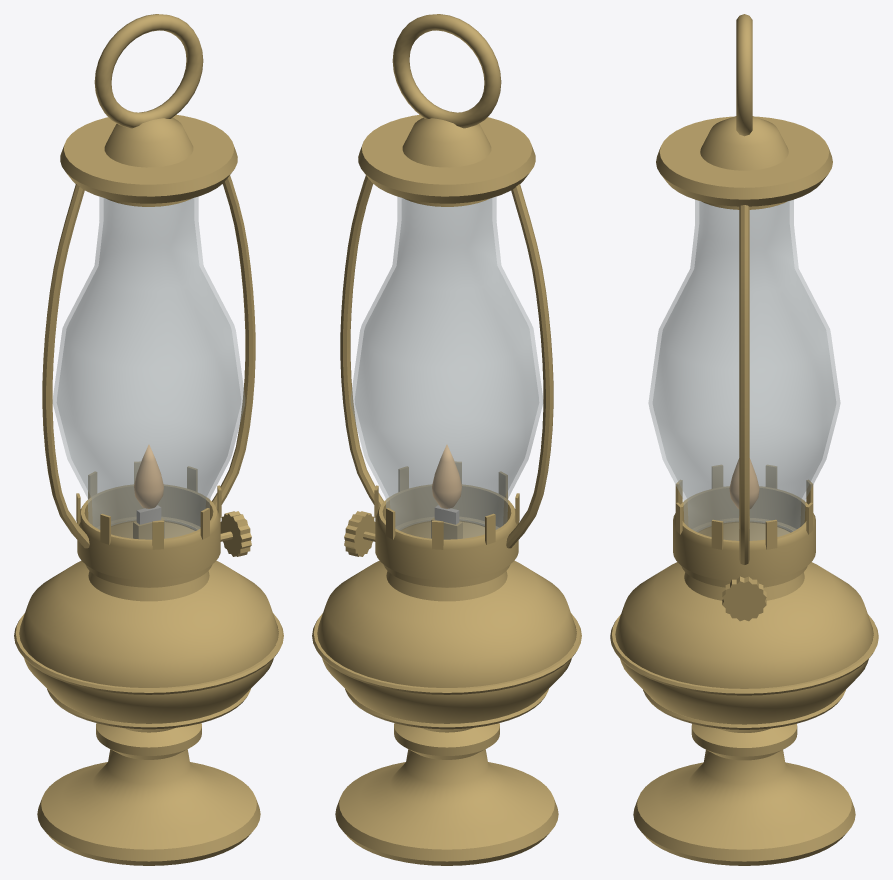
The model's file is GardenLamp.fbx.
3 views of the same model, side by side, from view 1: azimuth 30°, elevation 25°; view 2: azimuth 150°, elevation 25°; view 3: azimuth 270°, elevation 25° (orthographic).
Visible parts, largest first — view 1: Lamp, Flame; view 2: Lamp, Flame; view 3: Lamp, Flame.
Boxes of the visible parts, x1=… form: Lamp: x1=14, y1=14, x2=283, y2=865; Flame: x1=134, y1=445, x2=163, y2=508; Lamp: x1=312, y1=14, x2=581, y2=865; Flame: x1=432, y1=445, x2=461, y2=508; Lamp: x1=610, y1=14, x2=878, y2=865; Flame: x1=729, y1=458, x2=759, y2=508.
Size of the model in its own units: 0.0998 by 0.3286 by 0.0998.
